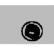correct: (20, 17, 47, 44)
